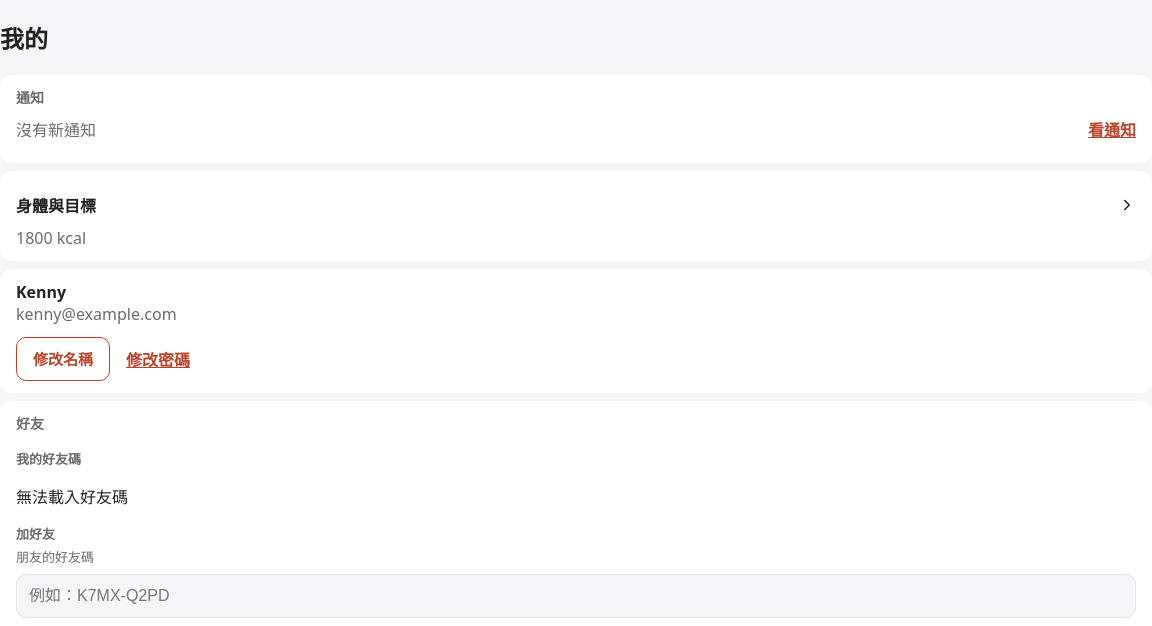
Test: 我的：帳號卡片 › 其他錯誤：「儲存失敗，請再試一次」
Step 1. Click the button "修改名稱" → (63, 359), box [16,337,110,381]
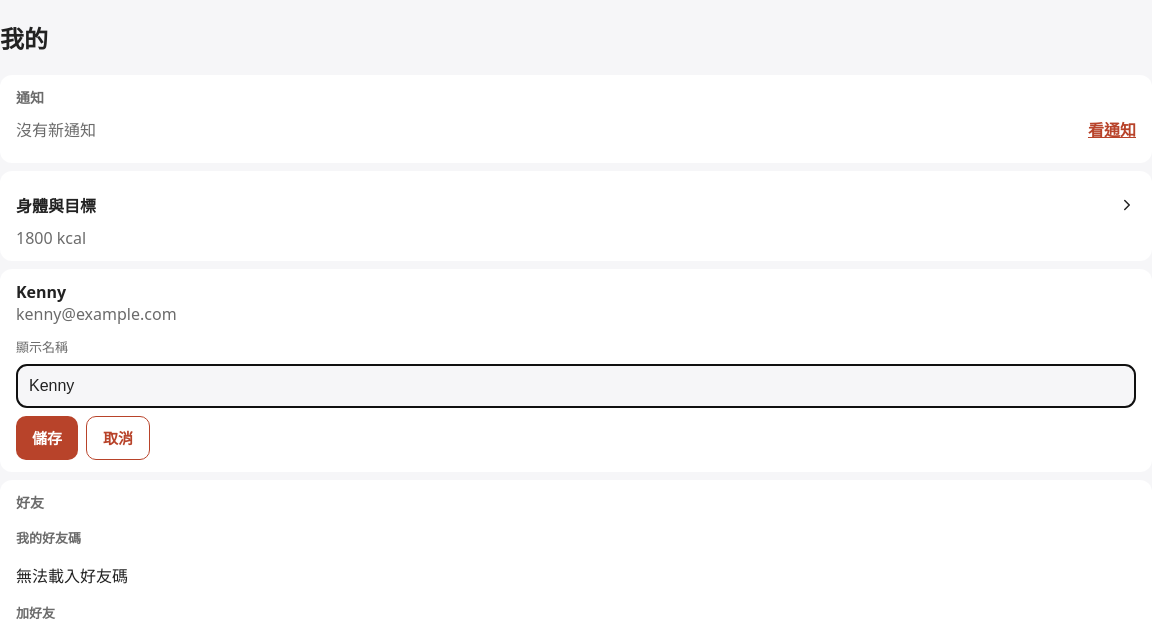
Step 2. Click the button "儲存" → (47, 438), box [16,416,78,460]
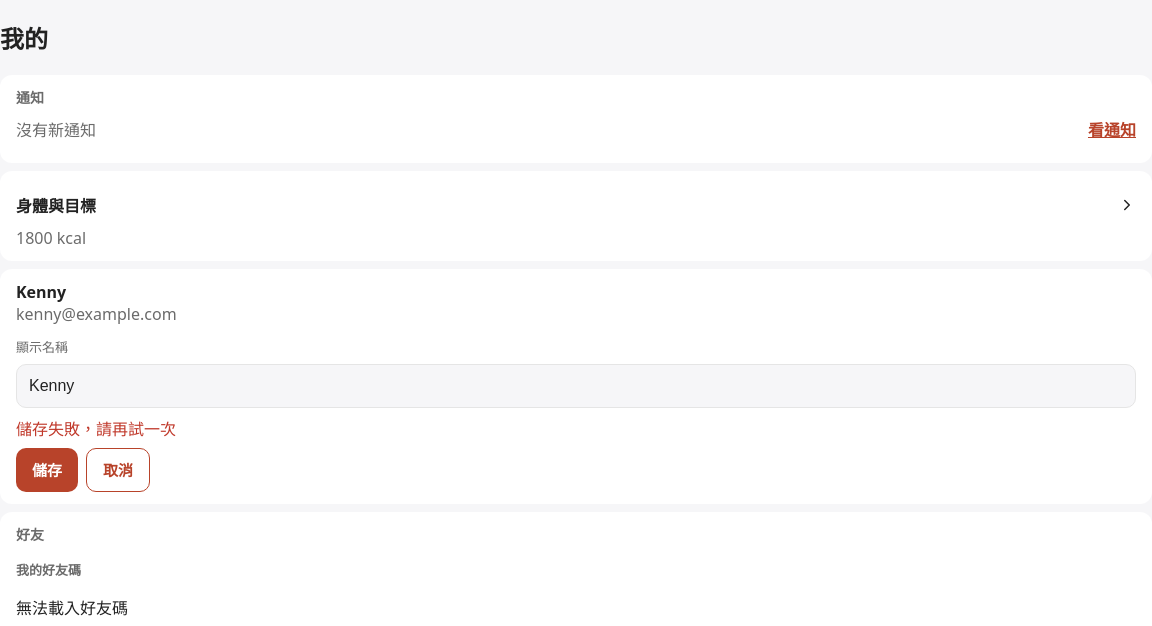
Expected: the message reads "儲存失敗，請再試一次", [16,418,176,440]
